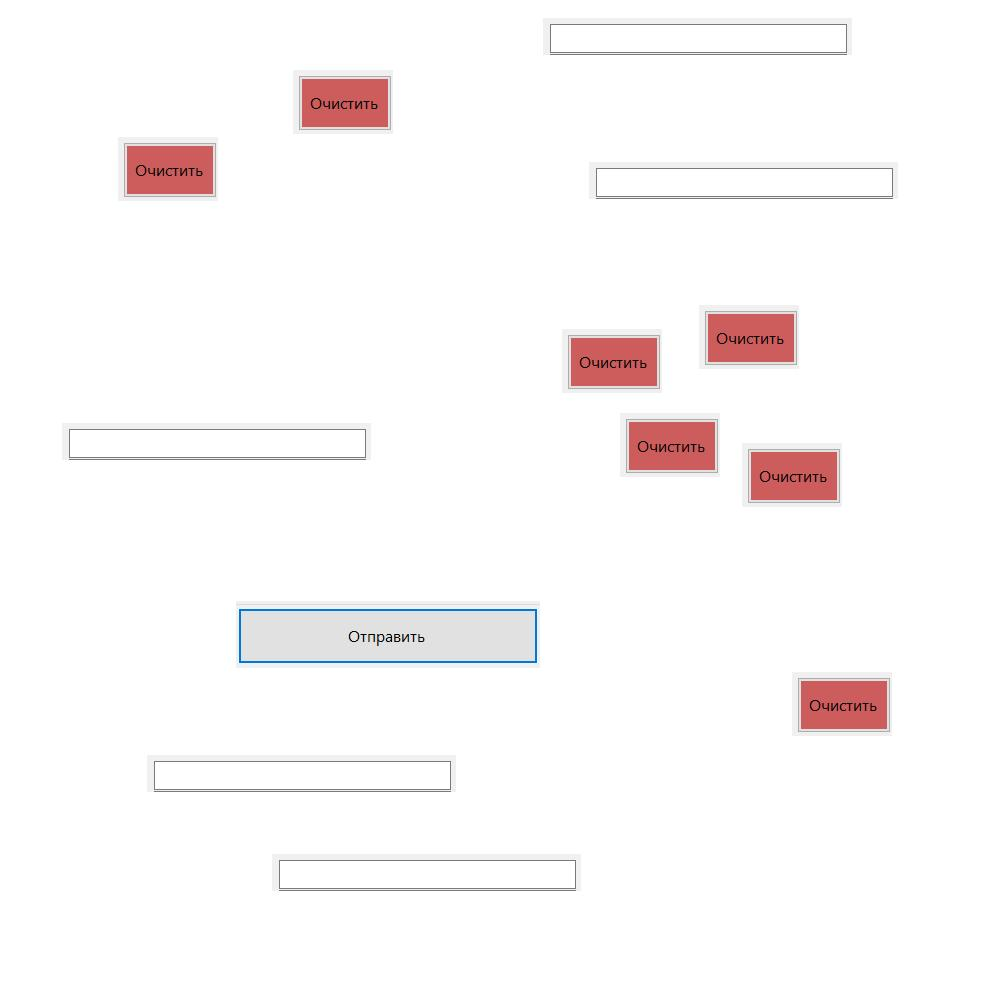Button: (236, 601, 540, 668), (742, 443, 842, 507), (118, 137, 218, 201), (792, 672, 892, 736), (293, 70, 393, 134), (620, 413, 720, 477), (699, 305, 799, 369), (562, 329, 662, 393)
EditText-: (147, 755, 456, 792), (272, 854, 581, 891), (589, 162, 898, 199), (62, 423, 371, 460), (543, 18, 852, 55)
